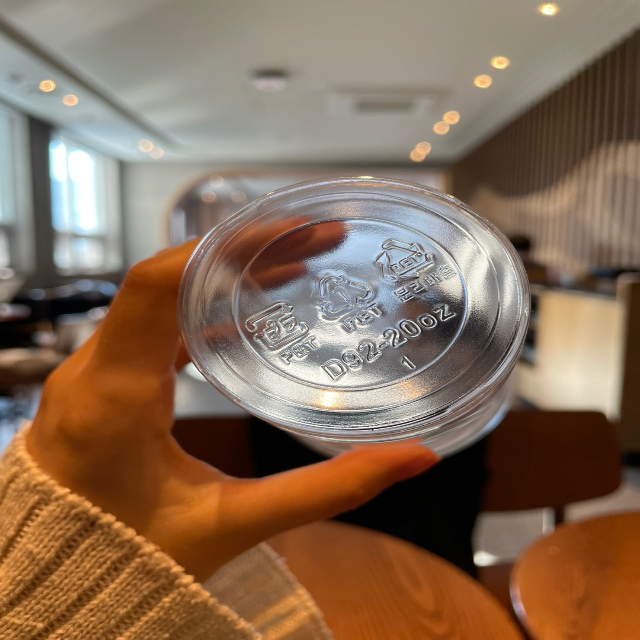pet: (371, 230, 463, 307), (239, 296, 323, 367), (313, 263, 389, 333)
